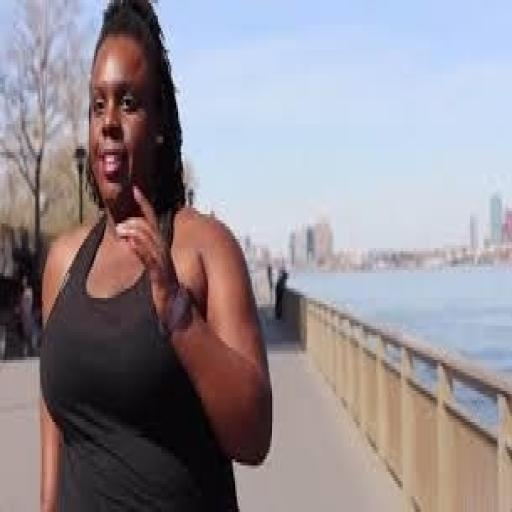running: (37, 0, 275, 509)
